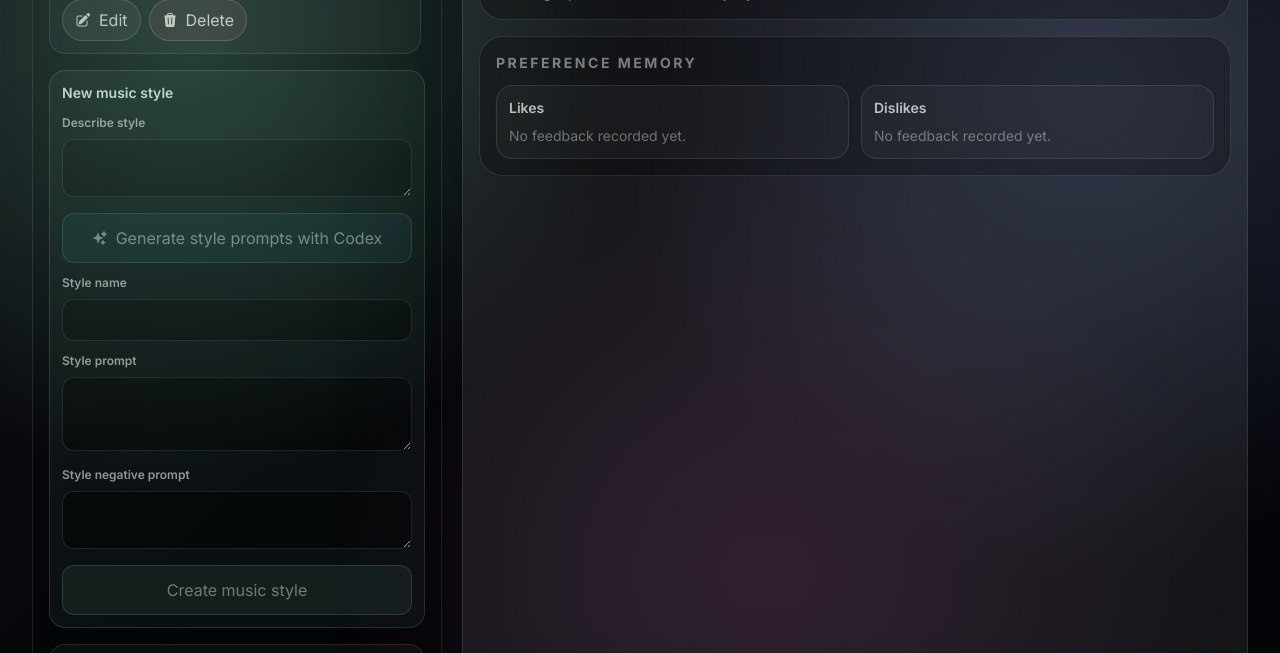
Scenario: radio page loading › creates custom music styles from the radio UI
This screenshot has width=1280, height=653.
(page scrolled)
Type "Dungeon Synth" into the field labelled "Style name" at (237, 320), box left=62, top=299, right=412, bottom=341
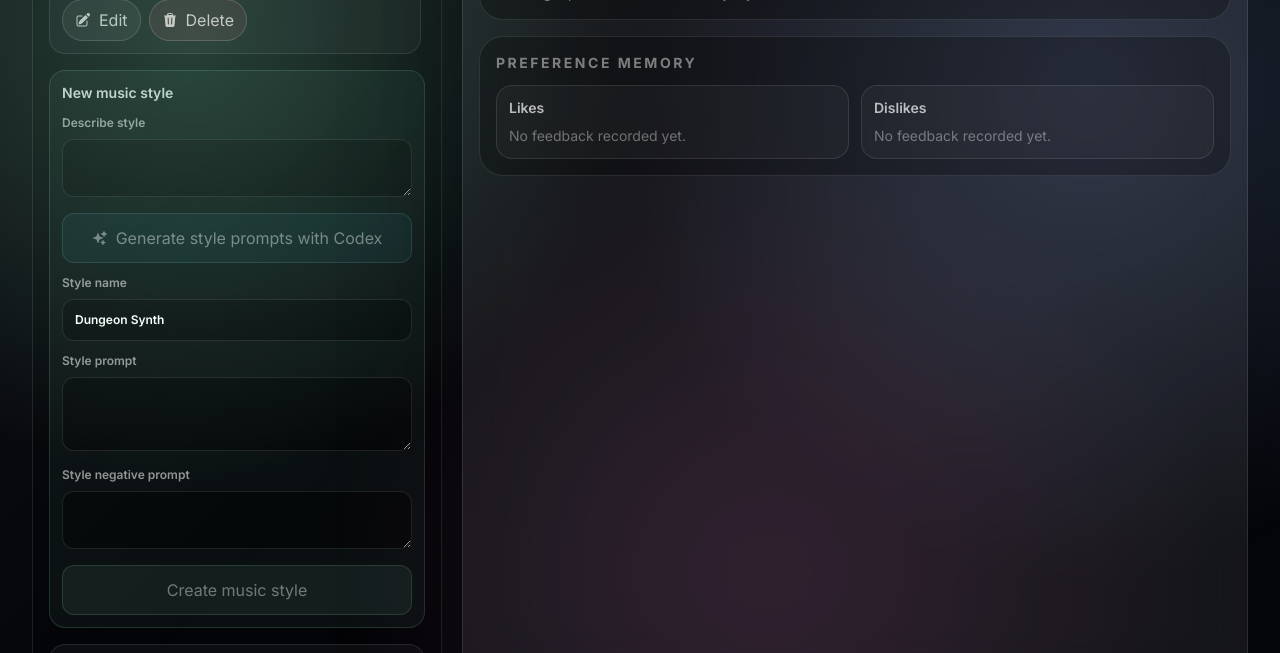
Type "moody dungeon synth instrumental, tape hiss, simple medieval melody, no vocals" into the text box labelled "Style prompt" at (237, 414), box left=62, top=377, right=412, bottom=451
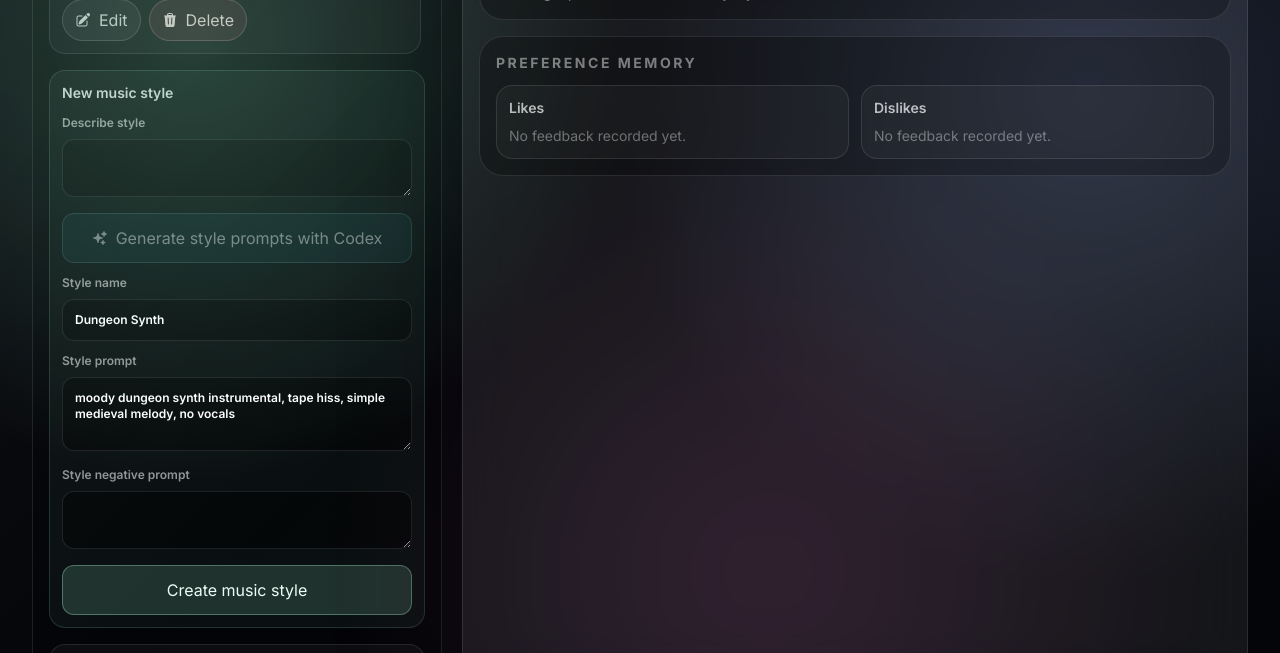
Type "modern EDM drops, bright pop drums" into the text box labelled "Style negative prompt" at (237, 520), box left=62, top=491, right=412, bottom=549
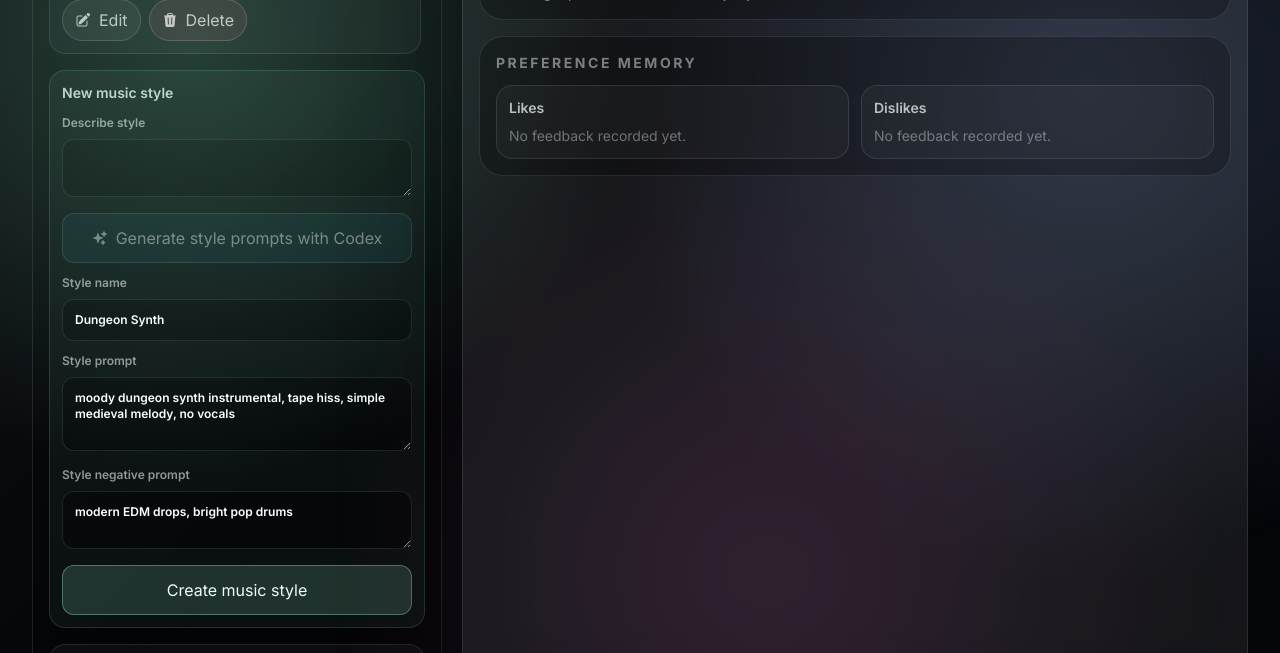
Click the button "Create music style" at (237, 590), box left=62, top=565, right=412, bottom=615
(page scrolled)
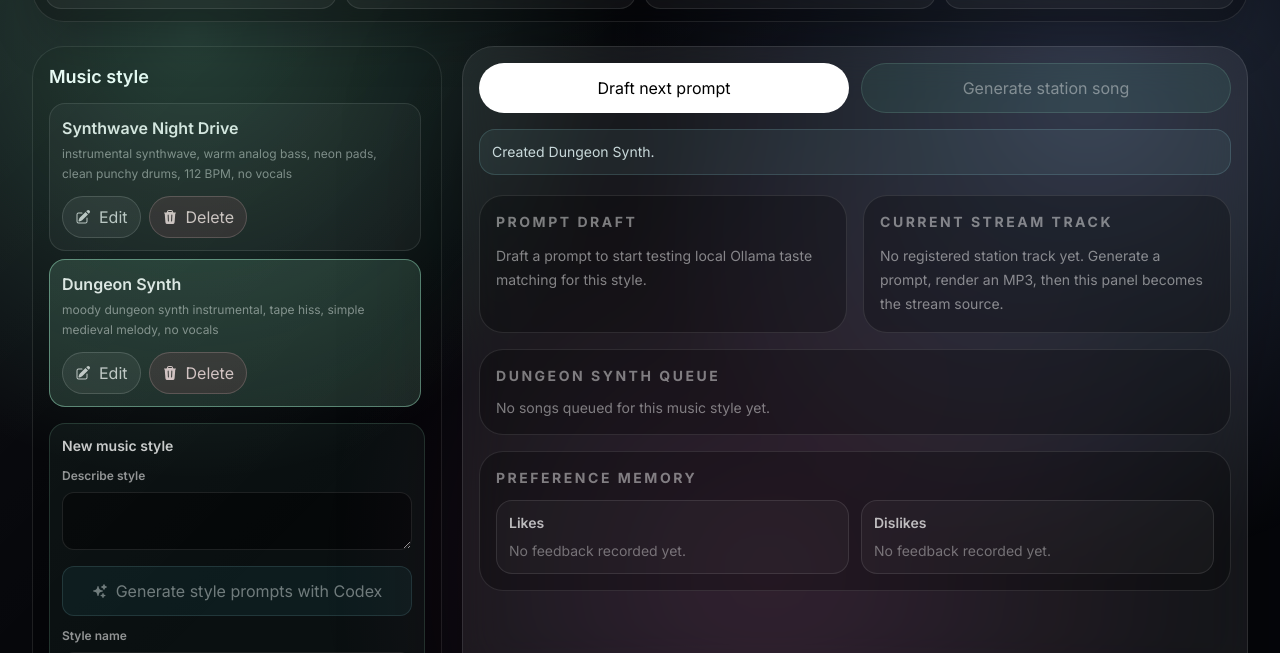
Expected: the text "moody dungeon synth instrumental, tape hiss, simple medieval melody, no vocals" is shown, left=62, top=300, right=408, bottom=340
